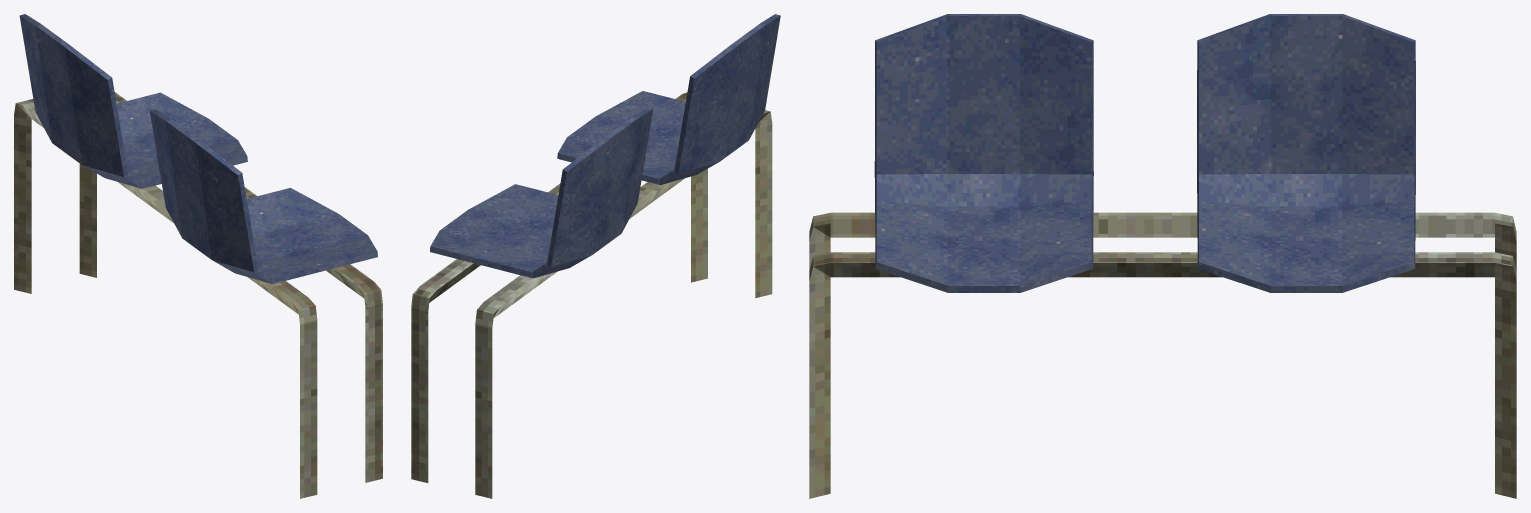
File: busstop_two_seats.glb
3 renders of one model, left to right at view 1: azimuth 30°, elevation 25°; view 2: azimuth 150°, elevation 25°; view 3: azimuth 270°, elevation 25°, orthographic. The views are drawn at different scales.
Parts seen in each view (by area): view 1: busstop_two_seats; view 2: busstop_two_seats; view 3: busstop_two_seats.
Boxes of the visible parts, x1=… form: busstop_two_seats: x1=14, y1=14, x2=382, y2=498; busstop_two_seats: x1=411, y1=14, x2=780, y2=498; busstop_two_seats: x1=809, y1=14, x2=1516, y2=498.
Bounding box in the file's own units: 0.692 × 1.25 × 1.98.
1 material, 1 textured.
